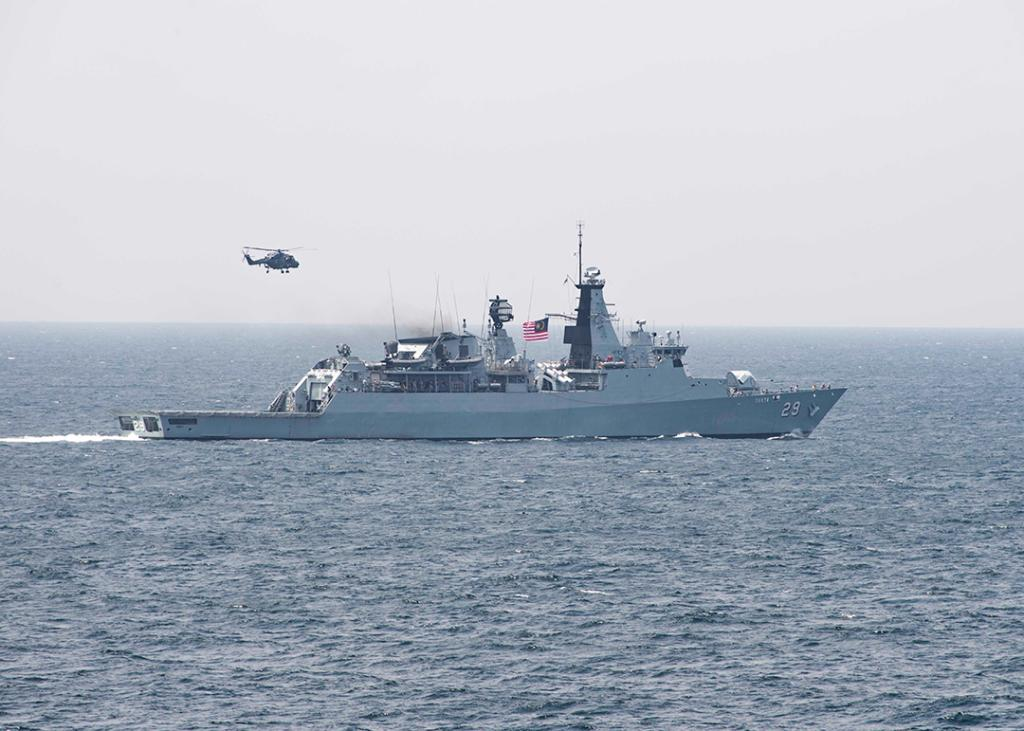Warship: (112, 210, 856, 454)
